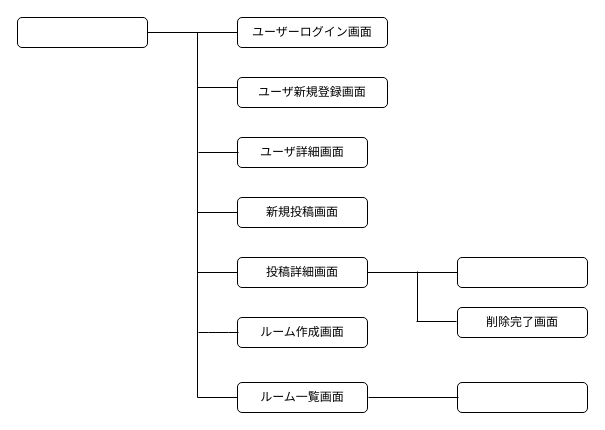
The diagram is 605 pixels wide and 430 high, and some of its shapes have lost their labels. Here are the shapes that lost their labels. From the top down, the centre of each, then its label:
At pixel 82 32: "一覧画面".
At pixel 522 272: "投稿編集画面".
At pixel 522 397: "ルームチャット画面".
